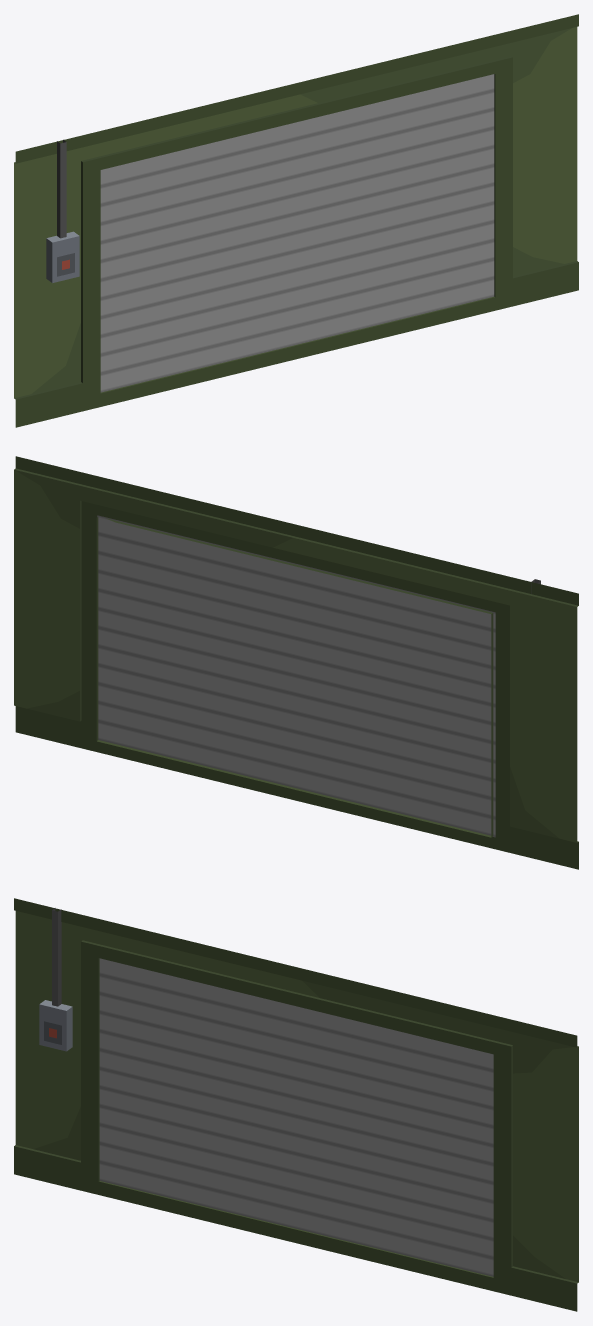
The model's file is AI_Env_Wall_Green_GarageDoor.fbx.
3 views of the same model, one above another, from view 1: azimuth 30°, elevation 25°; view 2: azimuth 150°, elevation 25°; view 3: azimuth 330°, elevation 25° (orthographic).
Parts seen in each view (by area): view 1: AI_Env_Wall_Green_GarageDoor; view 2: AI_Env_Wall_Green_GarageDoor; view 3: AI_Env_Wall_Green_GarageDoor.
Part boxes in pixels (box(x1,y1,x2,y2)): AI_Env_Wall_Green_GarageDoor: box(14, 14, 578, 427); AI_Env_Wall_Green_GarageDoor: box(14, 456, 578, 869); AI_Env_Wall_Green_GarageDoor: box(14, 898, 578, 1311).
Size of the model in its own units: 10 by 4.69 by 0.2623.
